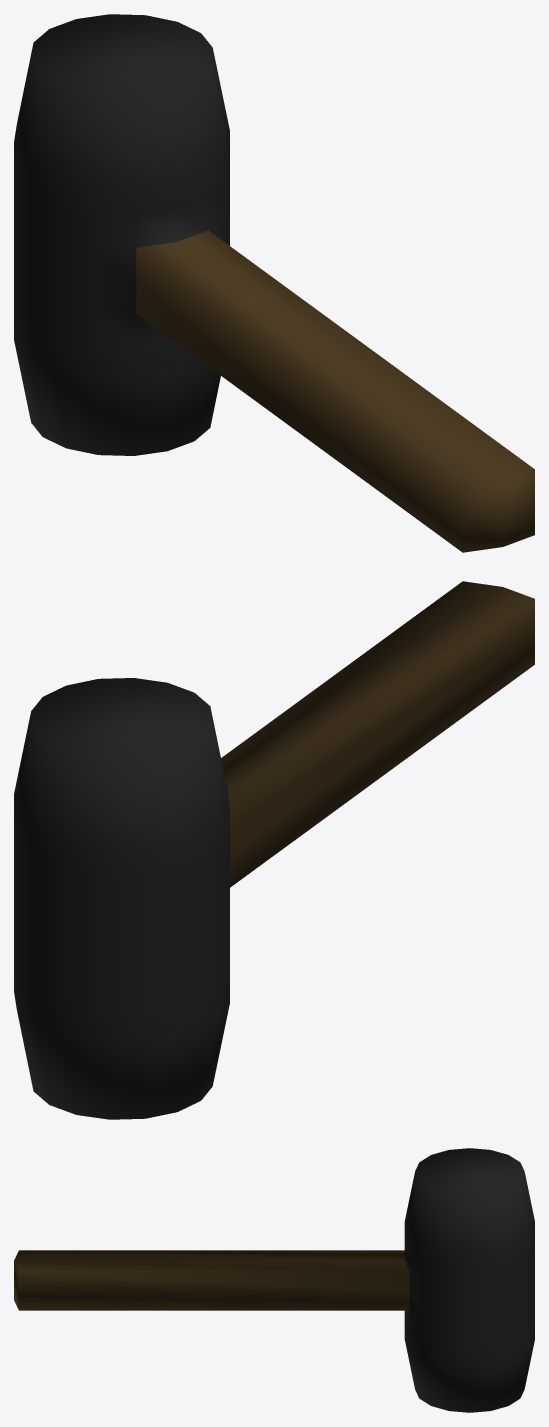
Rendered from hammer.fbx.
3 renders of one model, top to bottom at view 1: azimuth 30°, elevation 25°; view 2: azimuth 150°, elevation 25°; view 3: azimuth 270°, elevation 25°, orthographic. The views are drawn at different scales.
Parts seen in each view (by area): view 1: Cylinder; view 2: Cylinder; view 3: Cylinder.
Boxes of the visible parts, <box> form: Cylinder: <box>14,14,534,552</box>; Cylinder: <box>14,581,534,1119</box>; Cylinder: <box>14,1148,534,1412</box>.
Bounding box in the file's own units: 2 × 3.7 × 8.
